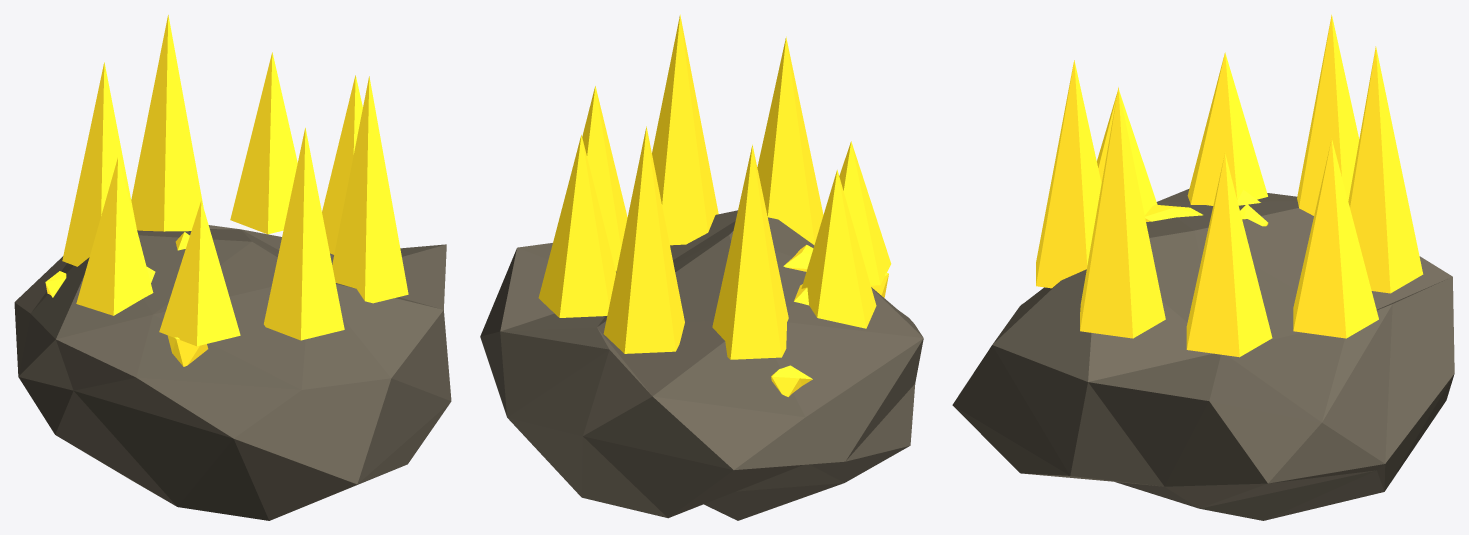
The model's file is sulfur.glb.
The picture shows the model from 3 angles, left to right: view 1: azimuth 30°, elevation 25°; view 2: azimuth 150°, elevation 25°; view 3: azimuth 270°, elevation 25°; orthographic projection. The views are drawn at different scales.
Visible parts, largest first — view 1: Sulfur; view 2: Sulfur; view 3: Sulfur.
Part boxes in pixels (x1,y1,x2,y2): Sulfur: (14, 15, 451, 520); Sulfur: (480, 14, 923, 520); Sulfur: (952, 14, 1454, 520).
Size of the model in its own units: 1.19 by 1.21 by 1.17.
